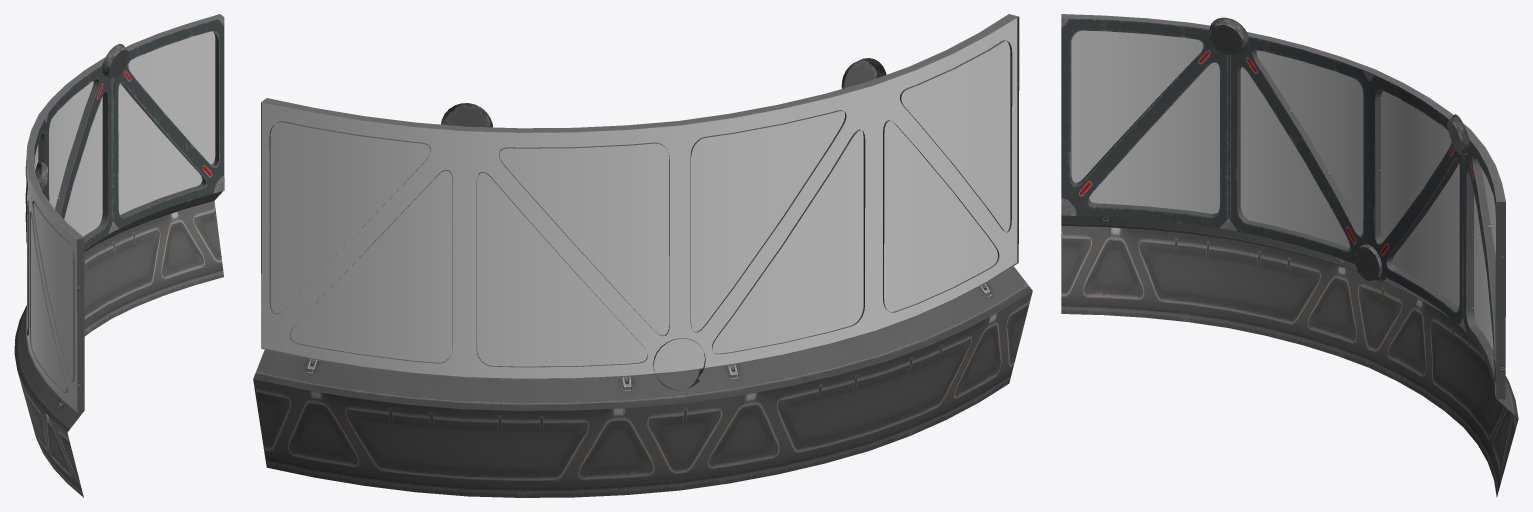
Rendered from S_WallWindowCornerRoundInner.gltf.
The picture shows the model from 3 angles, left to right: view 1: azimuth 30°, elevation 25°; view 2: azimuth 150°, elevation 25°; view 3: azimuth 270°, elevation 25°; orthographic projection. The views are drawn at different scales.
Visible parts, largest first — view 1: Plane_113-col; view 2: Plane_113-col; view 3: Plane_113-col.
Boxes of the visible parts, box(x1,y1,x2,y2) form: Plane_113-col: box(14, 14, 224, 497); Plane_113-col: box(253, 14, 1032, 497); Plane_113-col: box(1061, 14, 1518, 497).
Size of the model in its own units: 4.2 by 3.17 by 4.2.
4 materials, 3 textured.
